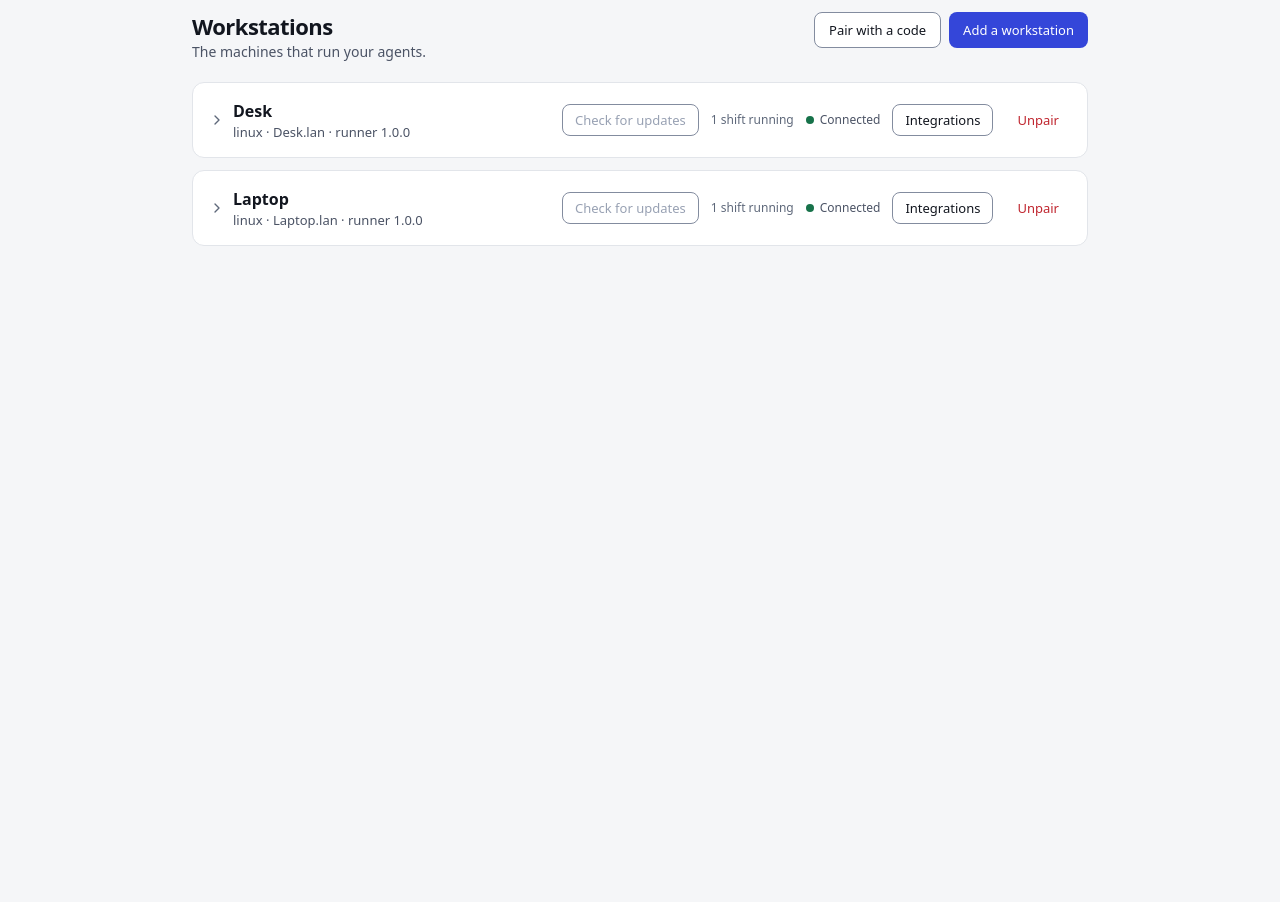
Scenario: Workstations page › still works when storage is blocked
Click the button with aria-label "Show details of Desk": (381, 120) [205,95,558,145]
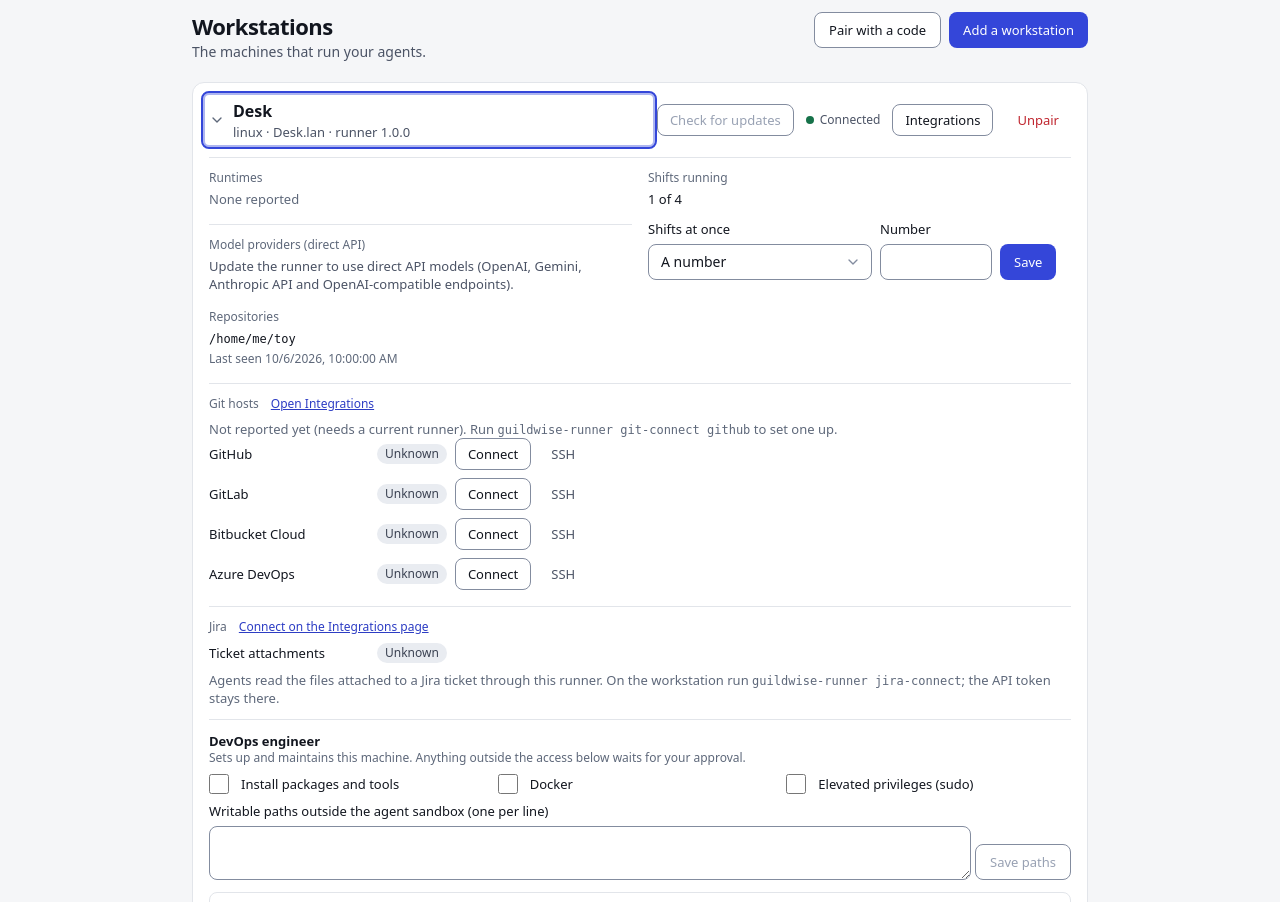
Result: the list with test id "workstation-repos" is shown at [209,332,296,346]
